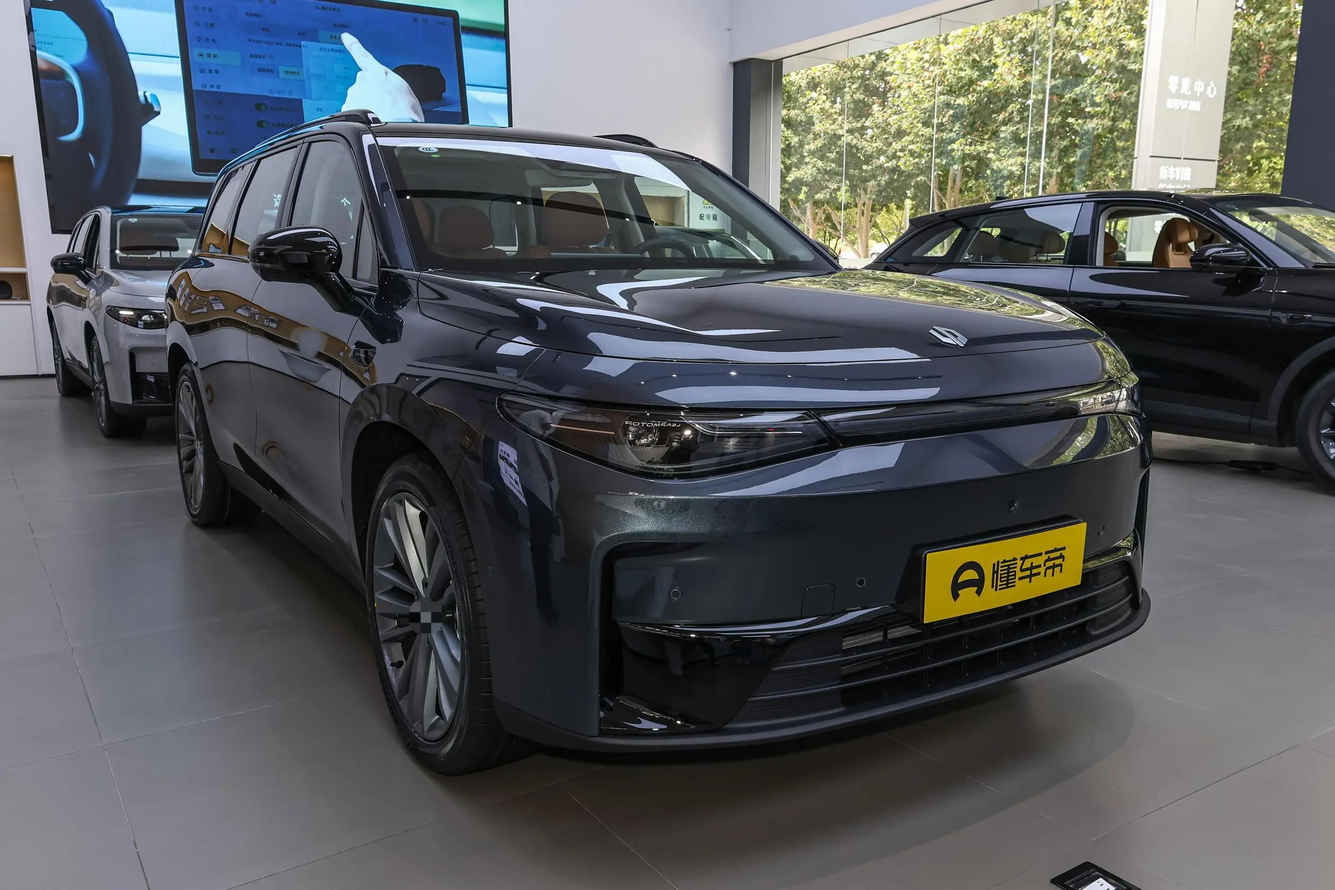LEAPMOTOR: (929, 325, 969, 348)
